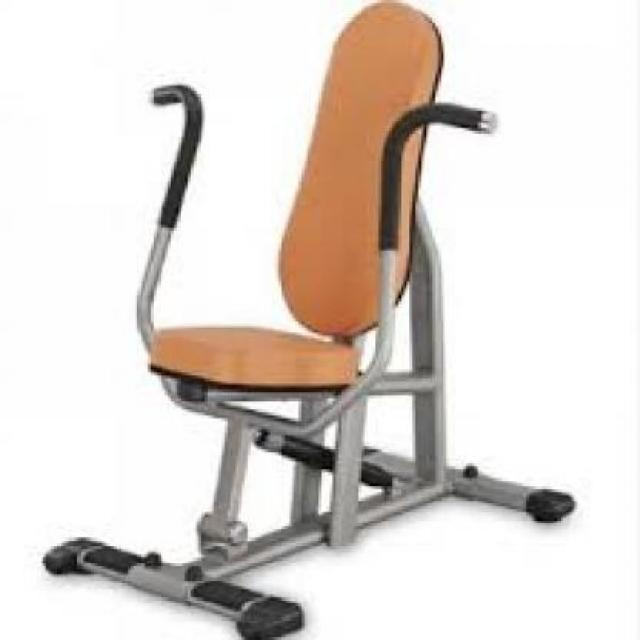Chest Press machine: (41, 1, 584, 640)
